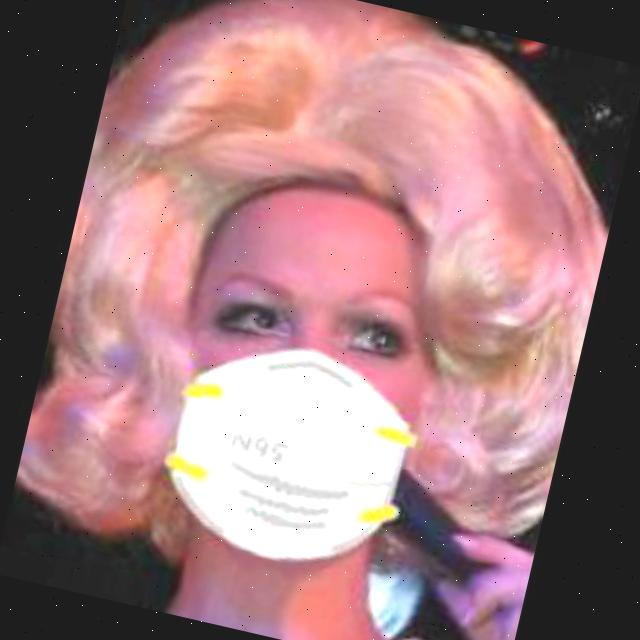suspicion: (104, 61, 527, 616)
